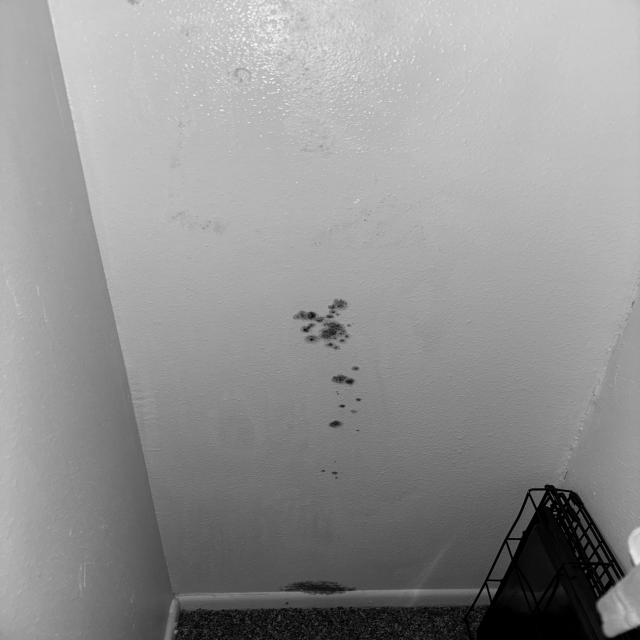stain marks: (279, 288, 367, 486)
